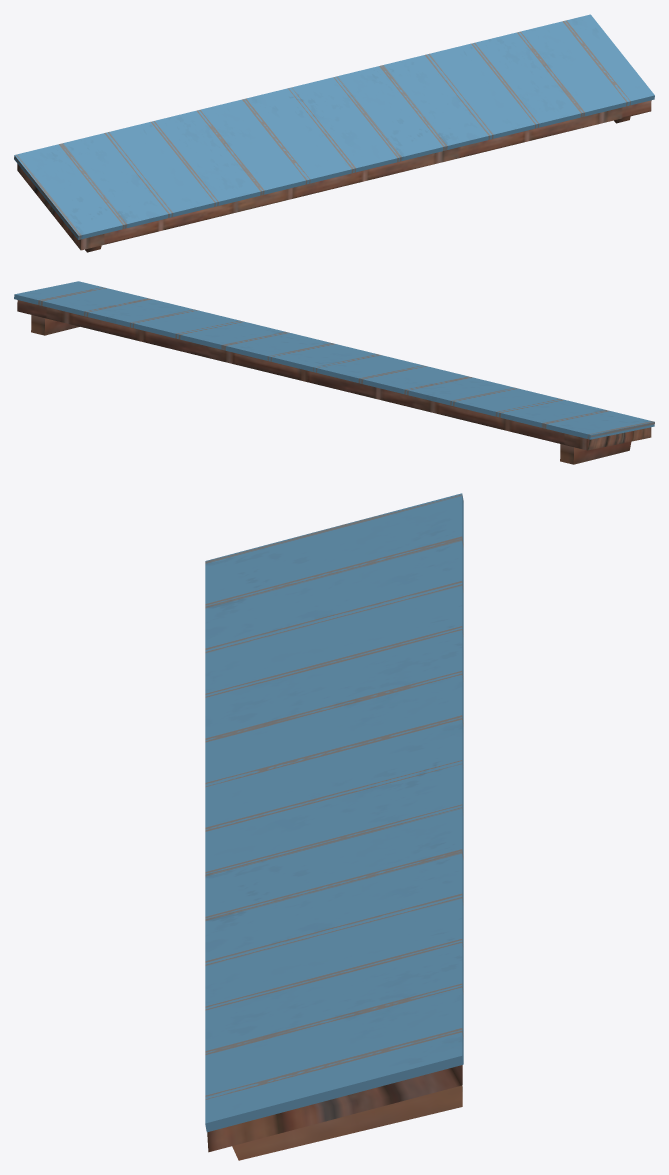
Rendered from ms_h01_sunshade3.fbx.
3 views of the same model, one above another, from view 1: azimuth 30°, elevation 25°; view 2: azimuth 150°, elevation 25°; view 3: azimuth 270°, elevation 25° (orthographic). The views are drawn at different scales.
Parts seen in each view (by area): view 1: ms_h01_sunshade3; view 2: ms_h01_sunshade3; view 3: ms_h01_sunshade3.
Part boxes in pixels (x1=…): ms_h01_sunshade3: x1=14, y1=14, x2=654, y2=252; ms_h01_sunshade3: x1=14, y1=281, x2=654, y2=464; ms_h01_sunshade3: x1=205, y1=493, x2=463, y2=1160.
Bounding box in the file's own units: 620 × 62.42 × 120.
